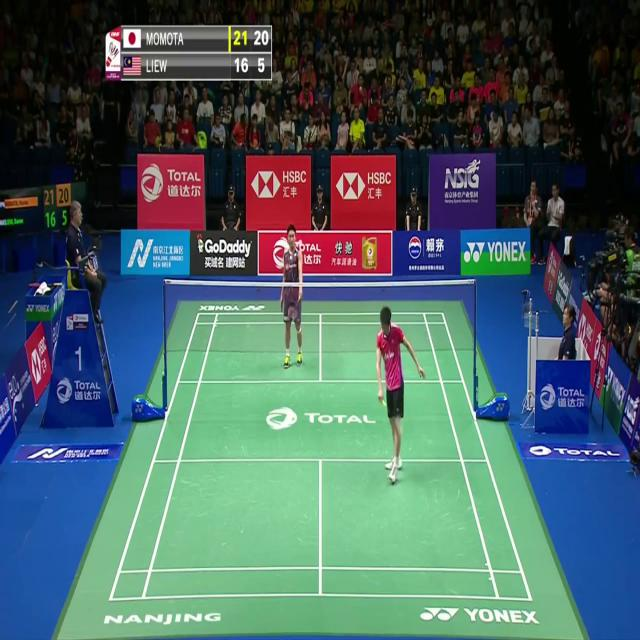Shuttlecock: (297, 236, 304, 248)
